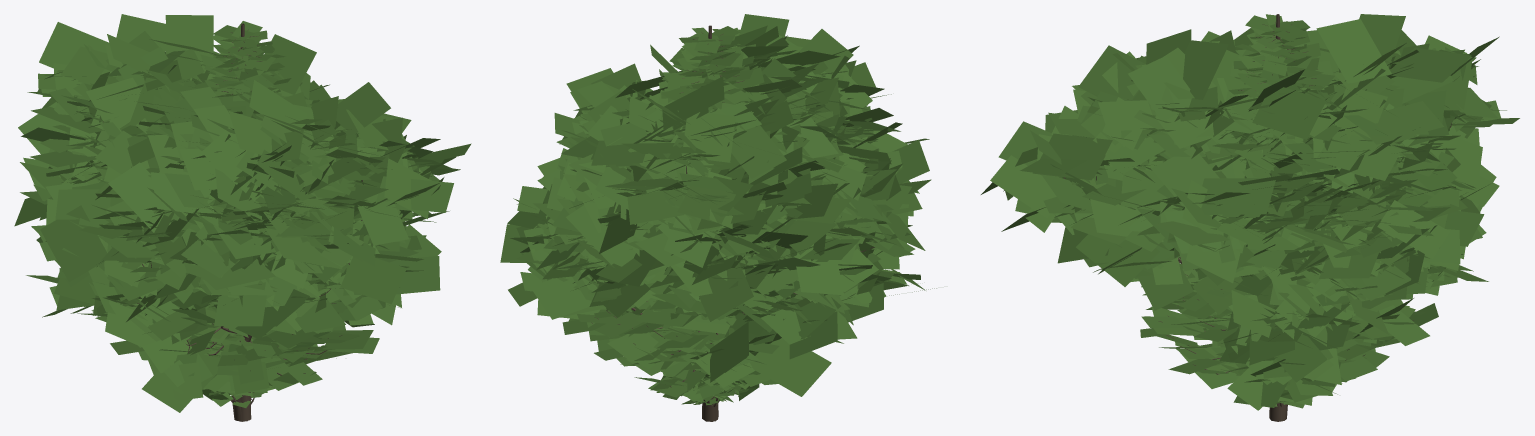
Rendered from trees.glb.
3 views of the same model, side by side, from view 1: azimuth 30°, elevation 25°; view 2: azimuth 150°, elevation 25°; view 3: azimuth 270°, elevation 25° (orthographic). The views are drawn at different scales.
Parts seen in each view (by area): view 1: broadleaf_1_lod1_leaves, broadleaf_2_lod1_leaves, broadleaf_1_leaves, broadleaf_0_lod1_leaves, broadleaf_2_leaves, conifer_1_lod1_leaves, conifer_1_leaves, broadleaf_0_leaves, conifer_0_leaves, conifer_0_lod1_leaves; view 2: broadleaf_2_lod1_leaves, broadleaf_0_lod1_leaves, broadleaf_1_lod1_leaves, broadleaf_2_leaves, conifer_1_lod1_leaves, broadleaf_1_leaves, broadleaf_0_leaves, conifer_1_leaves, conifer_0_lod1_leaves, conifer_0_leaves, shrub_0_lod1_leaves; view 3: broadleaf_1_lod1_leaves, broadleaf_2_lod1_leaves, broadleaf_0_lod1_leaves, broadleaf_1_leaves, conifer_1_lod1_leaves, broadleaf_2_leaves, broadleaf_0_leaves, conifer_1_leaves, conifer_0_lod1_leaves, conifer_0_leaves.
Part boxes in pixels (<box>): broadleaf_1_lod1_leaves: <box>14,34,471,412</box>; broadleaf_2_lod1_leaves: <box>21,14,436,321</box>; broadleaf_1_leaves: <box>31,74,443,400</box>; broadleaf_0_lod1_leaves: <box>20,51,406,325</box>; broadleaf_2_leaves: <box>37,44,431,324</box>; conifer_1_lod1_leaves: <box>110,21,379,391</box>; conifer_1_leaves: <box>138,24,371,385</box>; broadleaf_0_leaves: <box>61,84,385,327</box>; conifer_0_leaves: <box>188,46,360,388</box>; conifer_0_lod1_leaves: <box>138,44,373,394</box>; broadleaf_2_lod1_leaves: <box>500,26,931,359</box>; broadleaf_0_lod1_leaves: <box>507,74,929,396</box>; broadleaf_1_lod1_leaves: <box>530,14,936,326</box>; broadleaf_2_leaves: <box>520,44,913,343</box>; conifer_1_lod1_leaves: <box>569,26,777,397</box>; broadleaf_1_leaves: <box>549,44,925,319</box>; broadleaf_0_leaves: <box>539,93,902,377</box>; conifer_1_leaves: <box>576,27,772,393</box>; conifer_0_lod1_leaves: <box>562,51,760,376</box>; conifer_0_leaves: <box>572,46,770,386</box>; shrub_0_lod1_leaves: <box>661,362,759,404</box>; broadleaf_1_lod1_leaves: <box>981,27,1488,330</box>; broadleaf_2_lod1_leaves: <box>1072,14,1519,345</box>; broadleaf_0_lod1_leaves: <box>1197,31,1466,410</box>; broadleaf_1_leaves: <box>1003,60,1473,294</box>; conifer_1_lod1_leaves: <box>1141,15,1438,402</box>; broadleaf_2_leaves: <box>1071,43,1500,338</box>; broadleaf_0_leaves: <box>1232,102,1455,406</box>; conifer_1_leaves: <box>1140,14,1417,396</box>; conifer_0_lod1_leaves: <box>1144,30,1425,385</box>; conifer_0_leaves: <box>1141,33,1414,385</box>.
Bounding box in the file's own units: 14.81 × 14.42 × 17.47.
